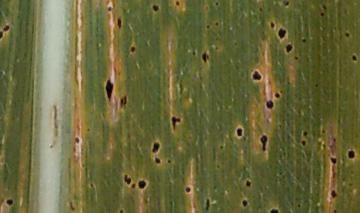tarspot: (105, 79, 114, 102), (259, 134, 269, 153), (170, 116, 181, 133), (277, 26, 287, 41), (251, 70, 262, 80), (204, 198, 211, 213), (137, 180, 147, 190), (151, 142, 160, 153), (265, 99, 274, 109), (285, 43, 294, 53), (330, 189, 338, 199), (116, 17, 122, 29), (329, 156, 338, 164), (347, 150, 355, 159), (119, 95, 124, 109), (236, 127, 243, 137), (201, 52, 207, 63), (6, 198, 14, 206), (350, 54, 358, 62), (154, 156, 161, 165), (245, 179, 252, 188), (123, 94, 128, 106), (126, 176, 132, 186), (152, 4, 159, 12), (241, 199, 248, 207), (320, 3, 327, 11), (343, 31, 351, 38), (300, 139, 307, 147), (269, 20, 275, 29), (123, 173, 128, 183), (184, 186, 191, 193), (274, 92, 281, 99), (302, 130, 309, 137), (106, 5, 112, 13), (205, 53, 211, 61), (268, 208, 280, 212), (283, 1, 291, 7), (319, 11, 325, 19), (3, 24, 9, 31), (74, 137, 80, 144), (130, 46, 136, 53), (130, 183, 137, 189), (258, 6, 264, 13), (301, 36, 307, 43), (332, 136, 337, 144), (293, 55, 299, 61), (314, 82, 320, 88), (321, 128, 327, 134), (118, 208, 125, 213), (167, 158, 172, 165), (1, 30, 4, 40), (214, 1, 220, 6), (205, 24, 210, 30), (191, 51, 197, 56), (89, 182, 94, 188), (279, 90, 284, 96), (175, 1, 180, 6), (214, 21, 219, 26), (296, 203, 301, 208), (333, 208, 338, 213), (219, 144, 223, 150)
